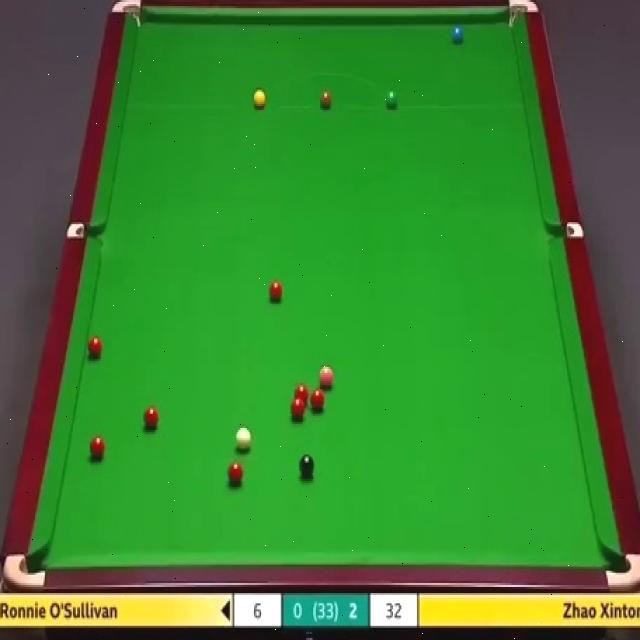black-ball: (299, 454, 315, 476)
blue-ball: (452, 26, 462, 46)
brown-ball: (319, 92, 333, 108)
green-ball: (385, 88, 399, 111)
pink-ball: (318, 364, 334, 386)
red-ball: (288, 396, 307, 421), (89, 436, 107, 462), (292, 383, 309, 408), (227, 460, 244, 484), (309, 390, 327, 412), (144, 406, 159, 430), (87, 335, 103, 357), (267, 281, 283, 301)
white-ball: (235, 427, 252, 452)
yellow-ball: (252, 88, 267, 110)
